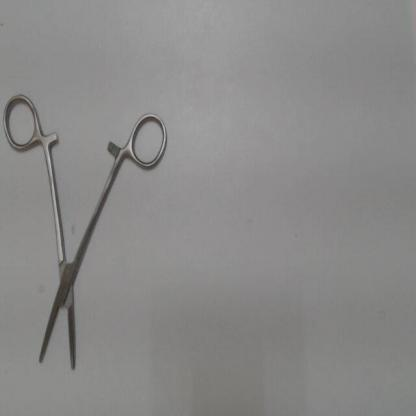Mayo Needle Holder: (2, 89, 172, 378)
